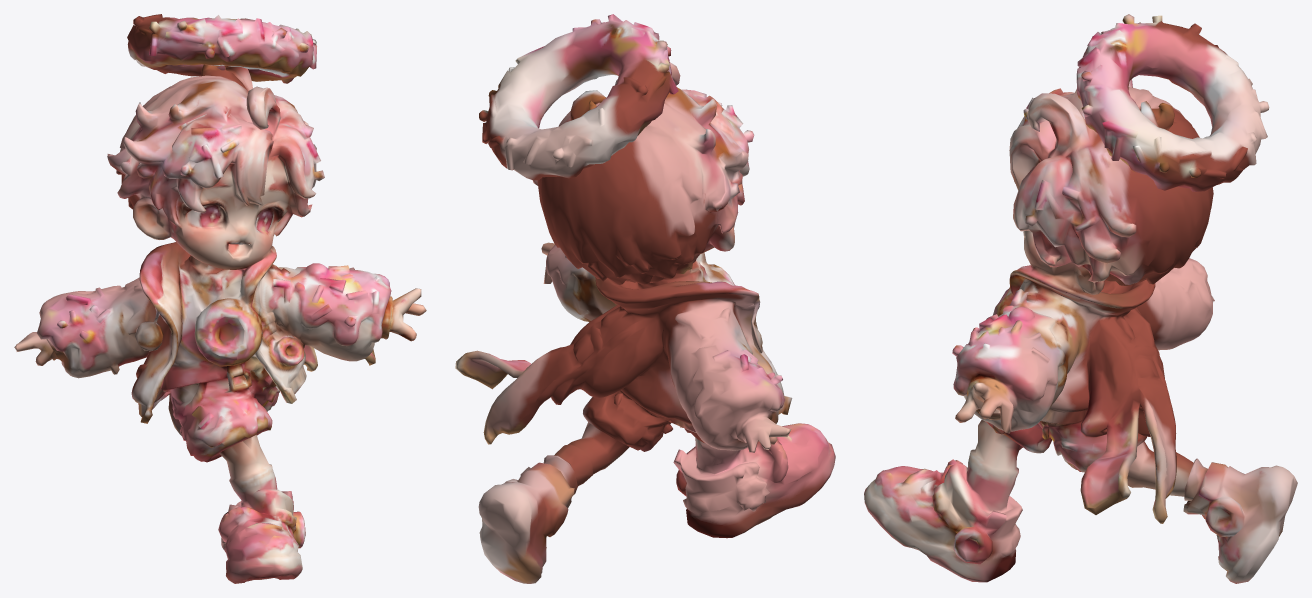
The model's file is donut_painted.glb.
3 views of the same model, side by side, from view 1: azimuth 30°, elevation 25°; view 2: azimuth 150°, elevation 25°; view 3: azimuth 270°, elevation 25° (orthographic). The views are drawn at different scales.
Visible parts, largest first — view 1: Body; view 2: Body; view 3: Body.
Boxes of the visible parts, x1,y1,x2,y2 form: Body: (14, 14, 426, 583); Body: (455, 14, 835, 583); Body: (864, 14, 1297, 583).
Size of the model in its own units: 0.6902 by 0.9972 by 0.7112.
1 material, 1 textured.
